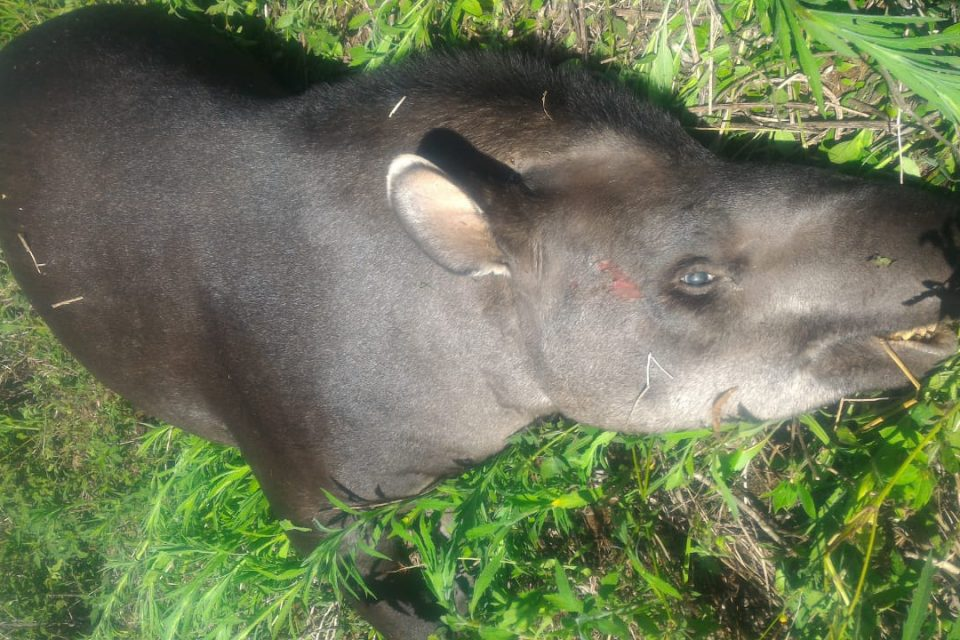Anta: (14, 5, 951, 585)
